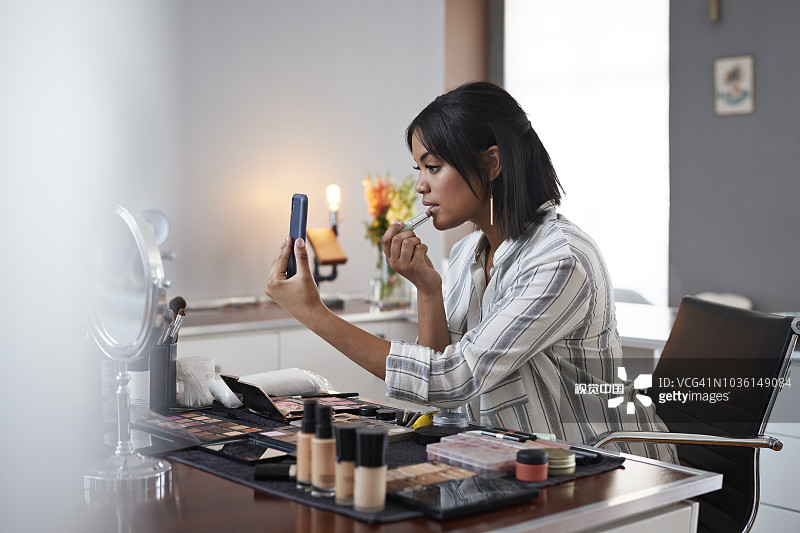no-phone: (372, 208, 452, 306)
taking photos: (258, 204, 337, 333)
